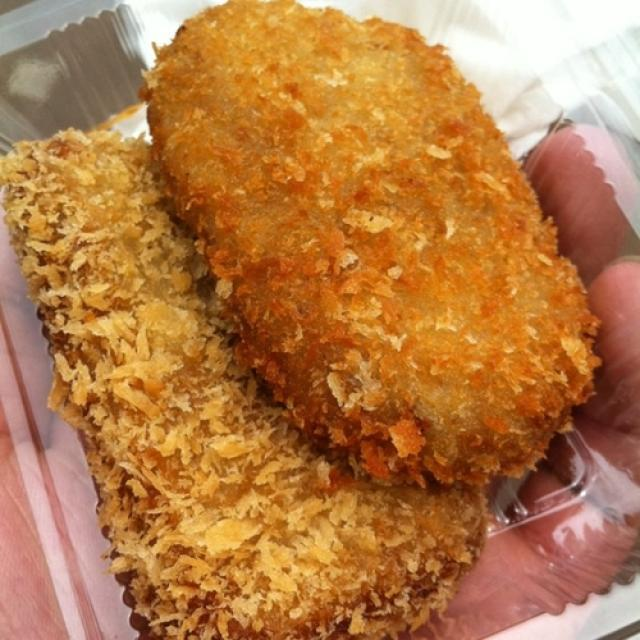炸货点心: (29, 13, 610, 628)
